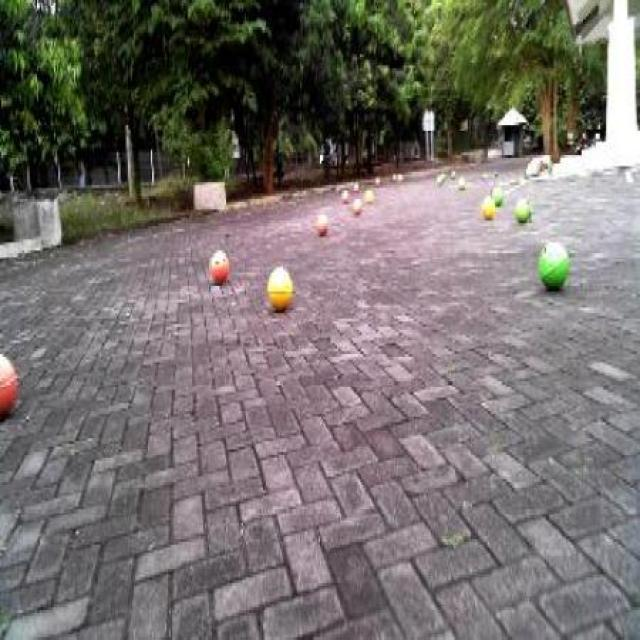buoy: (537, 231, 574, 299), (263, 260, 297, 315), (0, 347, 20, 424), (206, 243, 233, 287), (512, 191, 535, 226), (479, 194, 497, 224), (314, 211, 329, 238)
